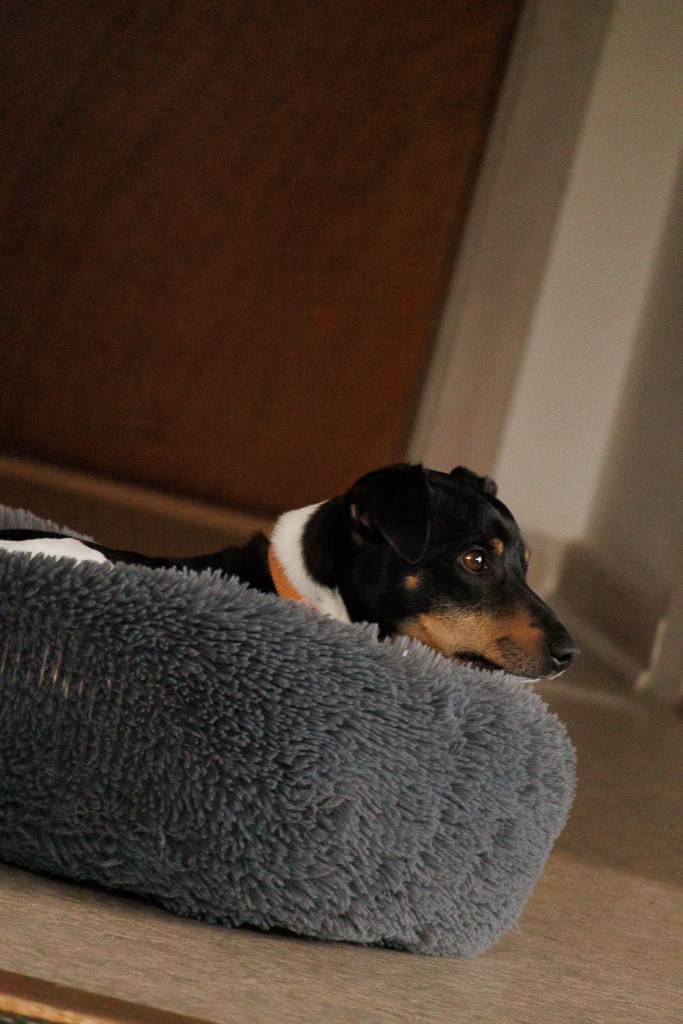Dog: (0, 446, 593, 704)
